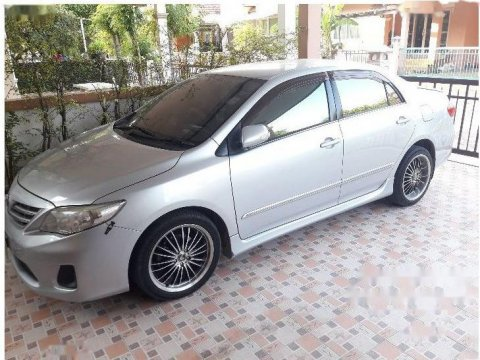sedan: (8, 58, 457, 305)
